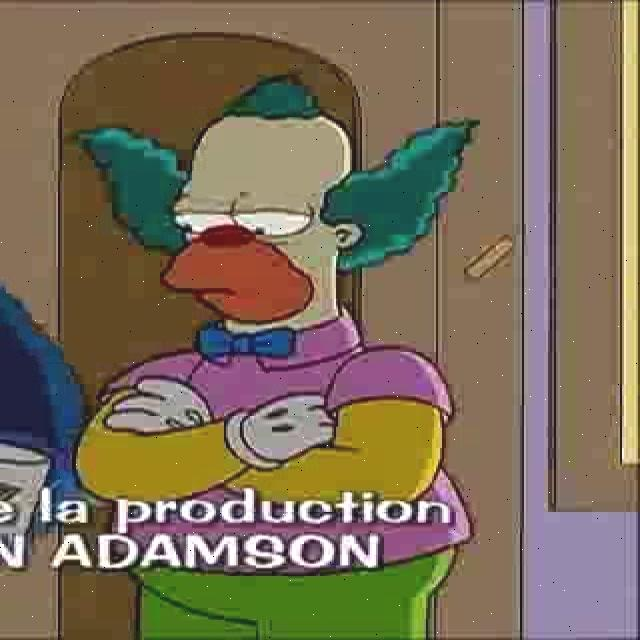Krusty the Clown: (65, 71, 487, 342)
